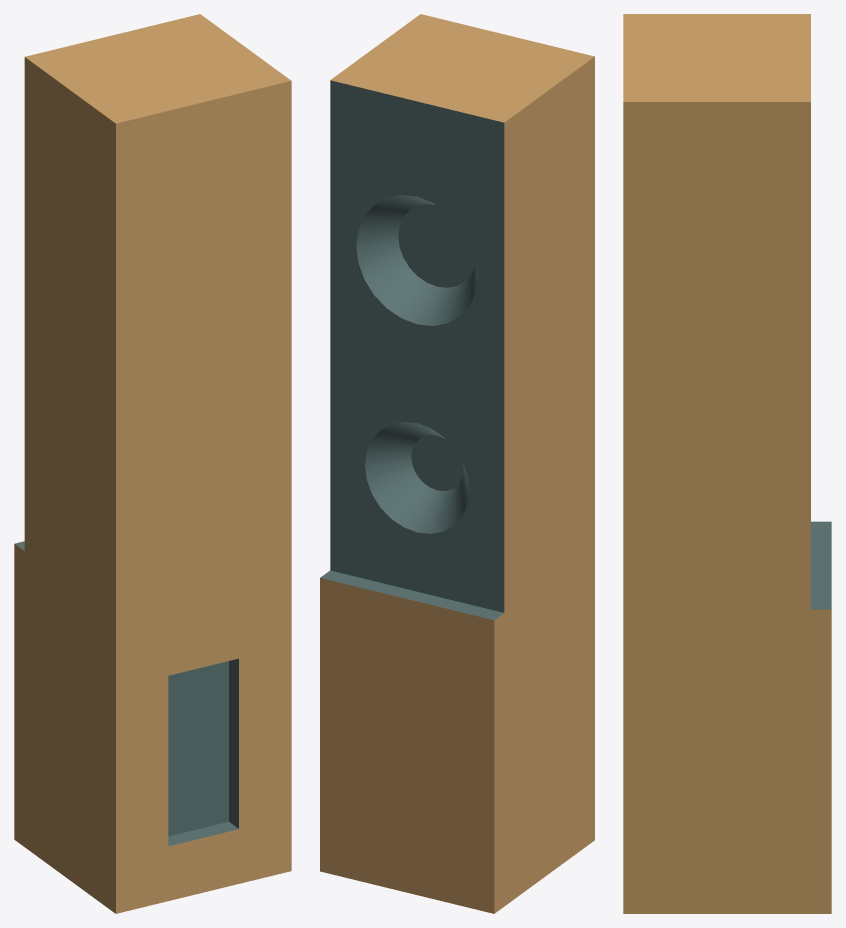
The model's file is speaker.glb.
3 views of the same model, side by side, from view 1: azimuth 30°, elevation 25°; view 2: azimuth 150°, elevation 25°; view 3: azimuth 270°, elevation 25° (orthographic). The views are drawn at different scales.
Size of the model in its own units: 1.48 by 6.36 by 1.48.
